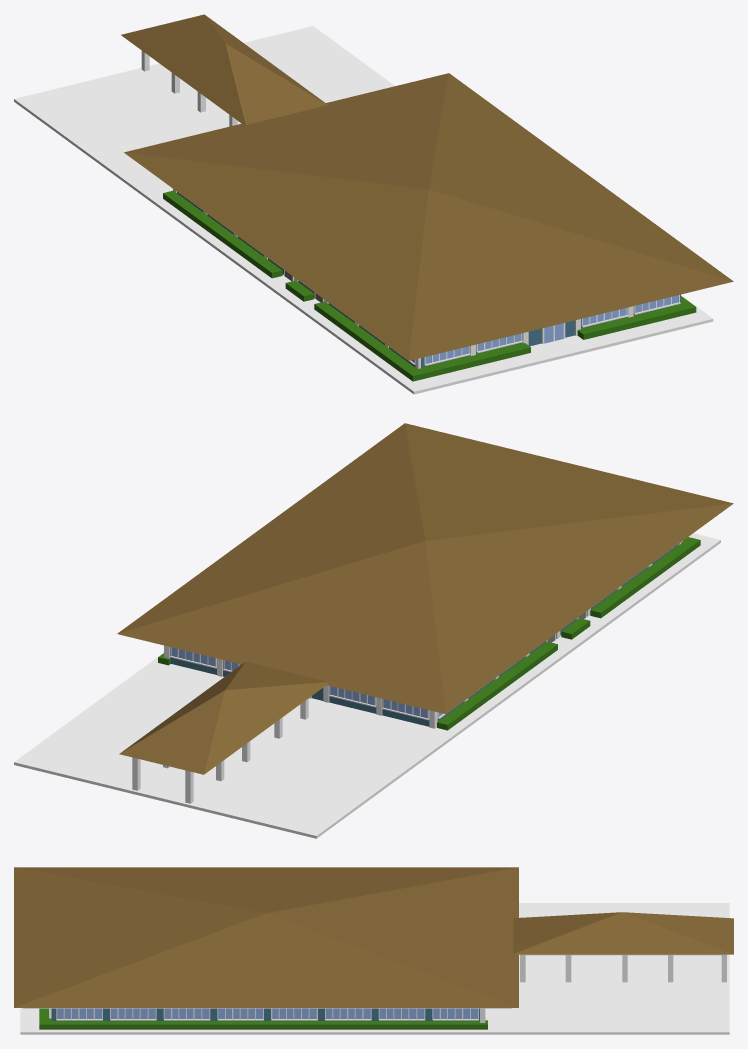
The model's file is GRADUATES2.glb.
3 views of the same model, one above another, from view 1: azimuth 30°, elevation 25°; view 2: azimuth 150°, elevation 25°; view 3: azimuth 270°, elevation 25° (orthographic). The views are drawn at different scales.
Visible parts, largest first — view 1: cube.025; view 2: cube.025; view 3: cube.025.
Part boxes in pixels (x1,y1,x2,y2): cube.025: (14, 14, 733, 394); cube.025: (14, 423, 733, 838); cube.025: (14, 867, 733, 1034).
Bounding box in the file's own units: 7.75 × 1.5 × 16.75.
Materials: 6 (6 with a texture image).
